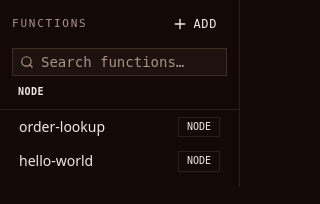
Test: filters the list by the search box, live as you type
Type "order" into the field with placeholder "Search functions…" at {"x": 120, "y": 62}, box [12, 48, 227, 76]
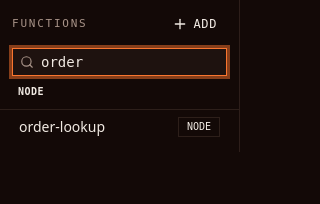
Expected: the text "order-lookup" is shown, [19, 117, 105, 137]
Result: the button "hello-world" is gone
